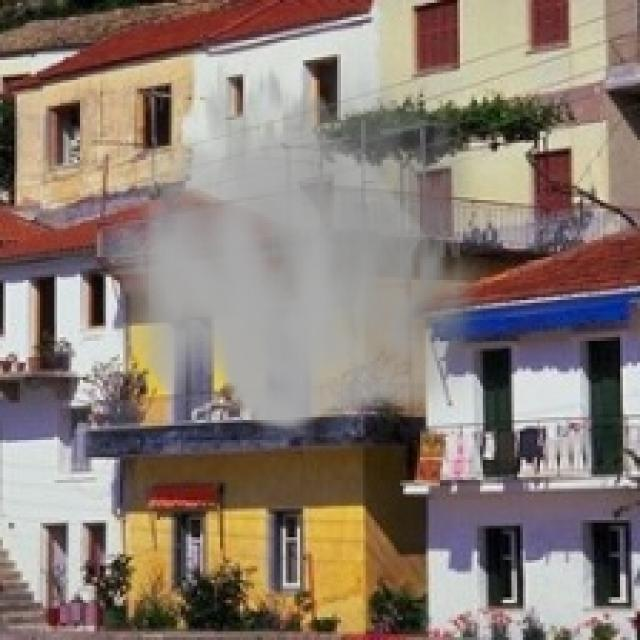smoke: (106, 20, 500, 437)
